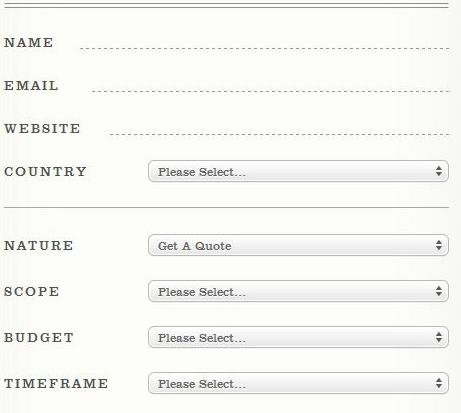field: (146, 160, 449, 184), (147, 233, 450, 257), (147, 279, 450, 303), (147, 325, 450, 349), (148, 371, 451, 395)
field_line: (74, 29, 453, 53), (84, 75, 452, 95), (104, 119, 451, 138)
field_line_with_label: (3, 26, 454, 56), (4, 72, 454, 99), (4, 117, 454, 142)
